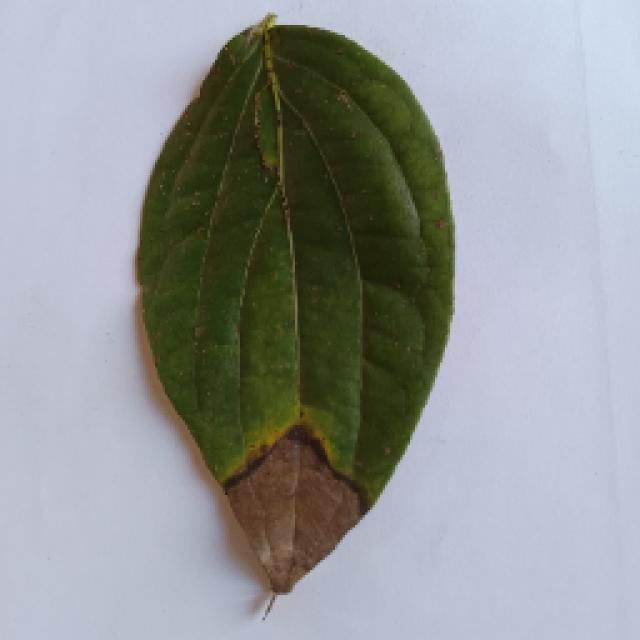footrot: (132, 18, 452, 608)
